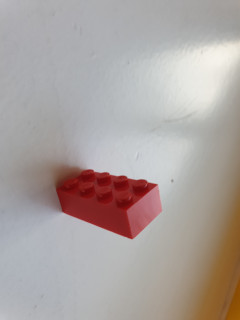2x4 red: (55, 168, 168, 240)
